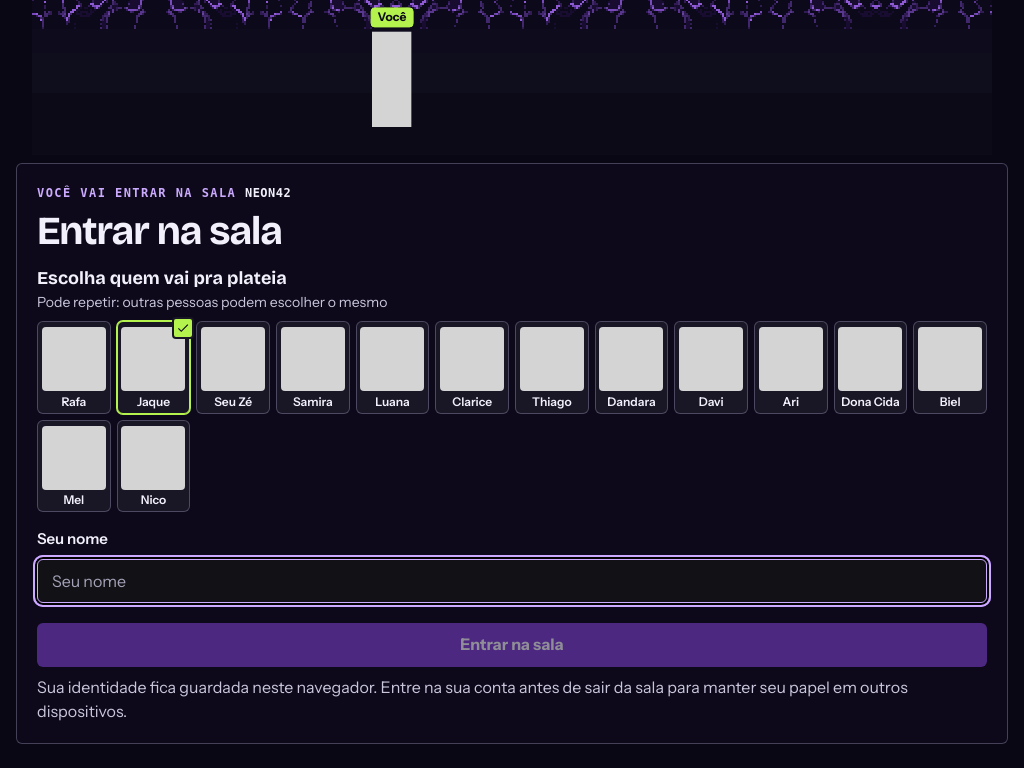
Scenario: RoomClient guest-identity signal (#167) › never shows the Guest marker to a signed-in member
(page scrolled)
In the field labelled "Seu nome": [512, 581] box [37,559,987,603], type "Alice"
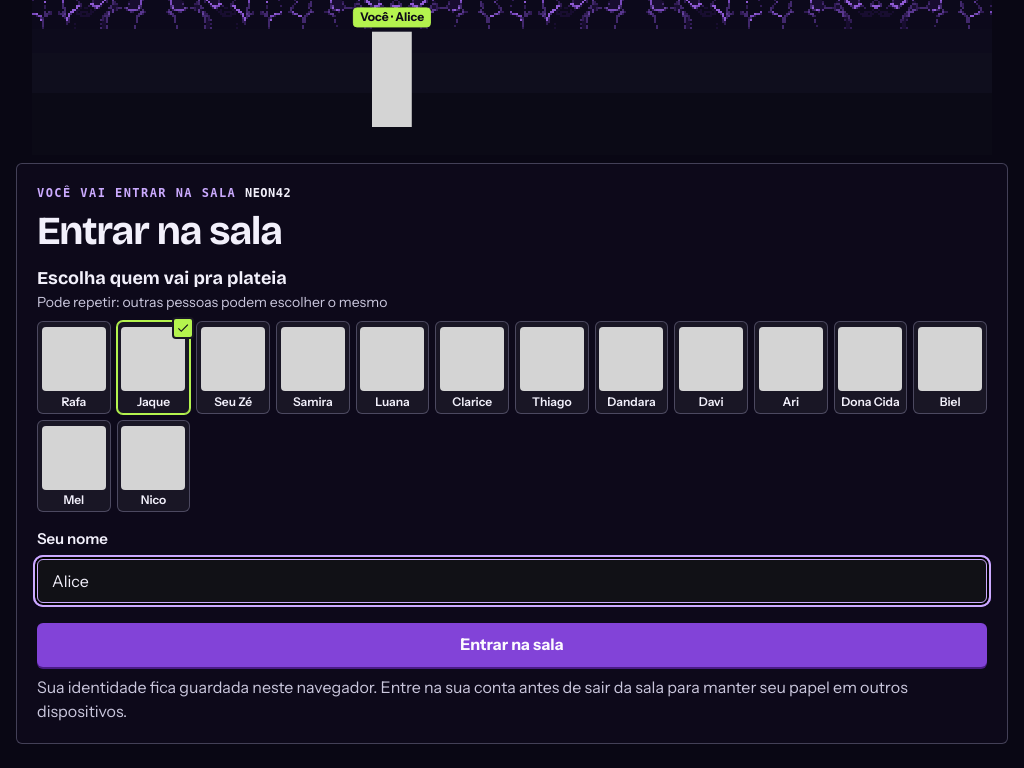
Click the button "Entrar na sala": [512, 645] box [37,623,987,667]
(page scrolled)
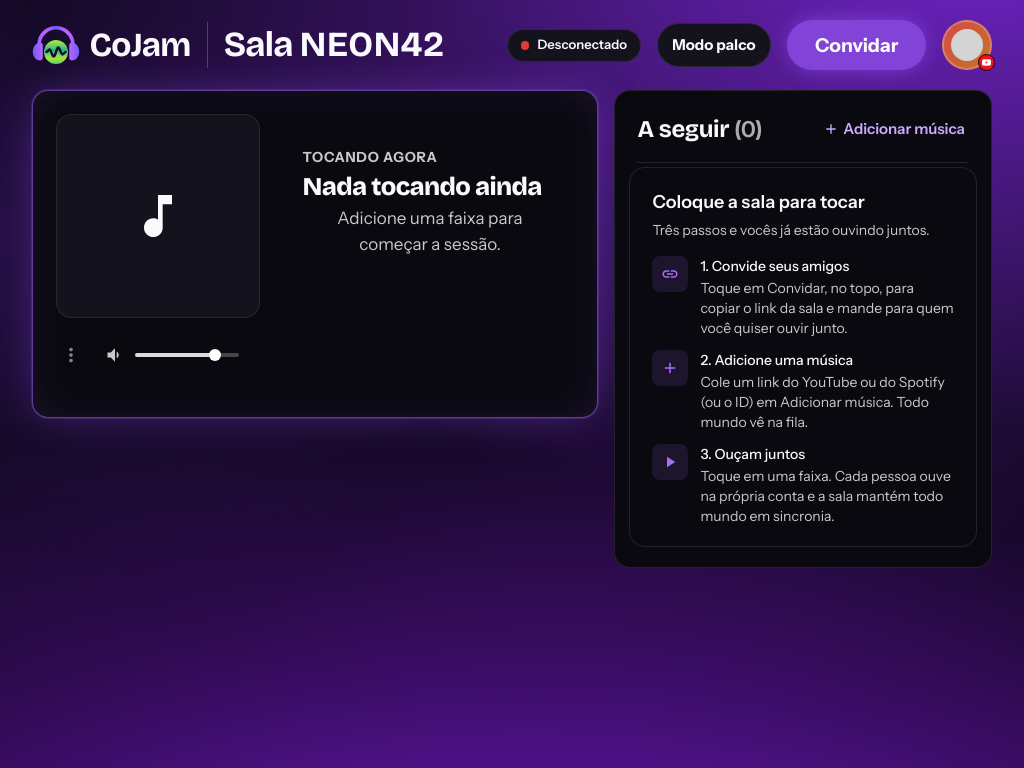
Result: the button "entrar na sala" is gone
